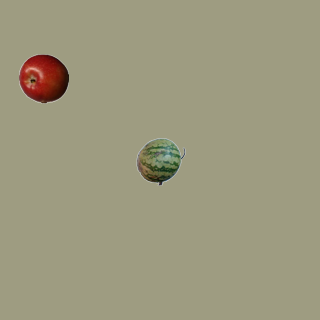Apple Braeburn: (18, 53, 68, 103)
Watermelon: (135, 136, 185, 186)
